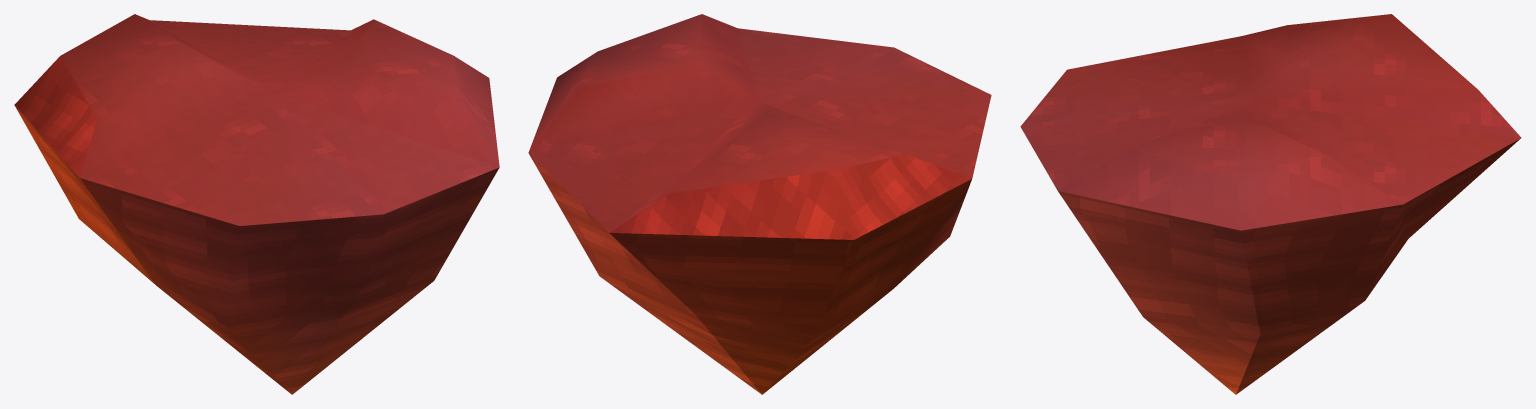
File: DECO_SPIN_ROCK_2.glb
3 renders of one model, left to right at view 1: azimuth 30°, elevation 25°; view 2: azimuth 150°, elevation 25°; view 3: azimuth 270°, elevation 25°, orthographic. The views are drawn at different scales.
Visible parts, largest first — view 1: DECO_SPIN_ROCK_2; view 2: DECO_SPIN_ROCK_2; view 3: DECO_SPIN_ROCK_2.
Part boxes in pixels (x1=…): DECO_SPIN_ROCK_2: x1=14, y1=14, x2=499, y2=394; DECO_SPIN_ROCK_2: x1=528, y1=14, x2=991, y2=394; DECO_SPIN_ROCK_2: x1=1020, y1=14, x2=1521, y2=394.
Bounding box in the file's own units: 2.29 × 1.7 × 2.5.
Materials: 2 (2 with a texture image).
